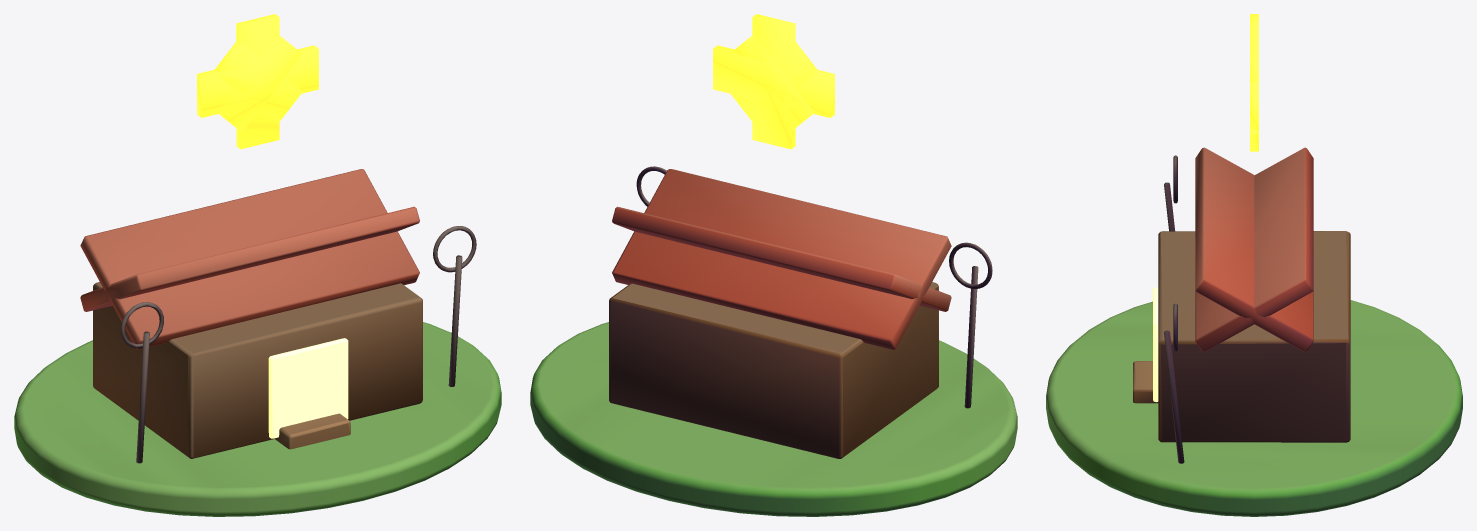
The model's file is manger.glb.
The picture shows the model from 3 angles, left to right: view 1: azimuth 30°, elevation 25°; view 2: azimuth 150°, elevation 25°; view 3: azimuth 270°, elevation 25°; orthographic projection. The views are drawn at different scales.
Parts seen in each view (by area): view 1: manger; view 2: manger; view 3: manger.
Boxes of the visible parts, left/top/right/bottom form: manger: left=14, top=14, right=501, bottom=516; manger: left=530, top=14, right=1017, bottom=516; manger: left=1046, top=14, right=1462, bottom=516.
Size of the model in its own units: 5.54 by 4.9 by 4.71.
